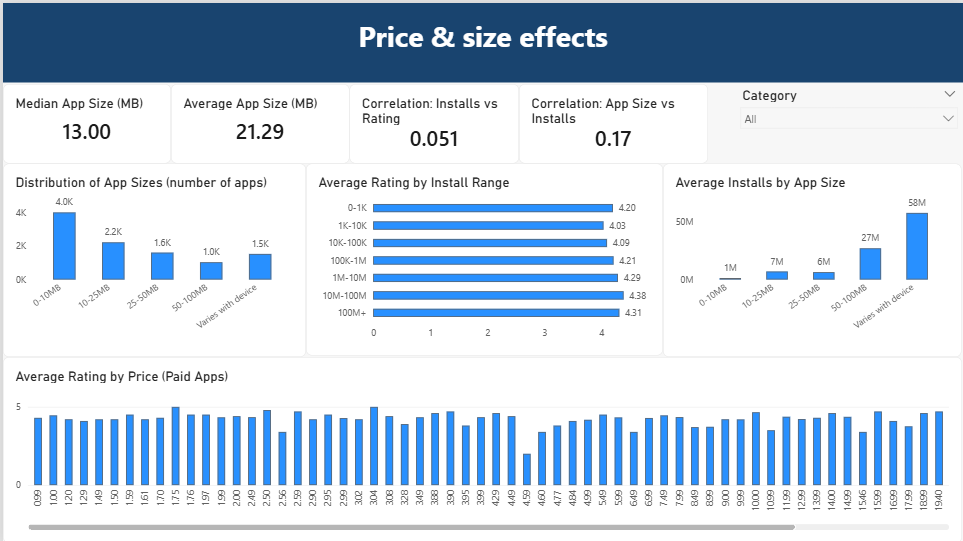

Layout of this report page (visuals, bound fields, positions):
{"tool":"powerbi","page":{"name":"Price & Size","canvas":[1280,720],"ordinal":3},"visuals":[{"type":"textbox","box":[0,0,1280,106],"z":0},{"type":"card","title":"Correlation: Installs vs Rating","fields":{"Values":["googleplaystore.Correlation Installs-Rating"]},"box":[462,108,226,106],"z":1000},{"type":"clusteredColumnChart","title":"Average Rating by Price (Paid Apps)","fields":{"Category":["googleplaystore.Price"],"Y":["googleplaystore.Average_Rating(Paid_App)"]},"box":[0,472.4,1278.9,248.1],"z":2000},{"type":"card","title":"Correlation: App Size vs Installs","fields":{"Values":["googleplaystore.Correlation Size-Installs"]},"box":[688,108,252,106],"z":3000},{"type":"clusteredColumnChart","title":"Average Installs by App Size","fields":{"Category":["googleplaystore.Bucket_Size"],"Y":["googleplaystore.Avg Installs"]},"box":[880,214,398,258],"z":4000},{"type":"clusteredBarChart","title":"Average Rating by Install Range","fields":{"Category":["googleplaystore.Installs_Bucket"],"Y":["googleplaystore.Avg Rating (Rated Apps Only)"]},"box":[404,214,476,256],"z":5000},{"type":"clusteredColumnChart","title":"Distribution of App Sizes (number of apps)","fields":{"Category":["googleplaystore.Bucket_Size"],"Y":["googleplaystore.Total_Apps"]},"box":[0,214,404,258],"z":6000},{"type":"card","title":"Average App Size (MB)","fields":{"Values":["Bridge App.Avg App Size (MB)"]},"box":[224,108,238,106],"z":7000},{"type":"card","title":"Median App Size (MB)","fields":{"Values":["Bridge App.Median App Size (MB)"]},"box":[0,108,224,106],"z":8000},{"type":"slicer","fields":{"Values":["googleplaystore.Category"]},"box":[978,112,300,90],"z":8001}]}

Visuals, with their boxes in screenshot pixels (x1, y1, x2, y2), scaled from the page's 1280x720 canvas onto the 963x541 screenshot:
textbox: pyautogui.locateOnScreen(0, 0, 962, 80)
"Correlation: Installs vs Rating" card: pyautogui.locateOnScreen(348, 81, 518, 161)
"Average Rating by Price (Paid Apps)" clusteredColumnChart: pyautogui.locateOnScreen(0, 355, 962, 540)
"Correlation: App Size vs Installs" card: pyautogui.locateOnScreen(518, 81, 707, 161)
"Average Installs by App Size" clusteredColumnChart: pyautogui.locateOnScreen(662, 161, 961, 355)
"Average Rating by Install Range" clusteredBarChart: pyautogui.locateOnScreen(304, 161, 662, 353)
"Distribution of App Sizes (number of apps)" clusteredColumnChart: pyautogui.locateOnScreen(0, 161, 304, 355)
"Average App Size (MB)" card: pyautogui.locateOnScreen(169, 81, 348, 161)
"Median App Size (MB)" card: pyautogui.locateOnScreen(0, 81, 169, 161)
slicer - googleplaystore.Category: pyautogui.locateOnScreen(736, 84, 961, 152)
